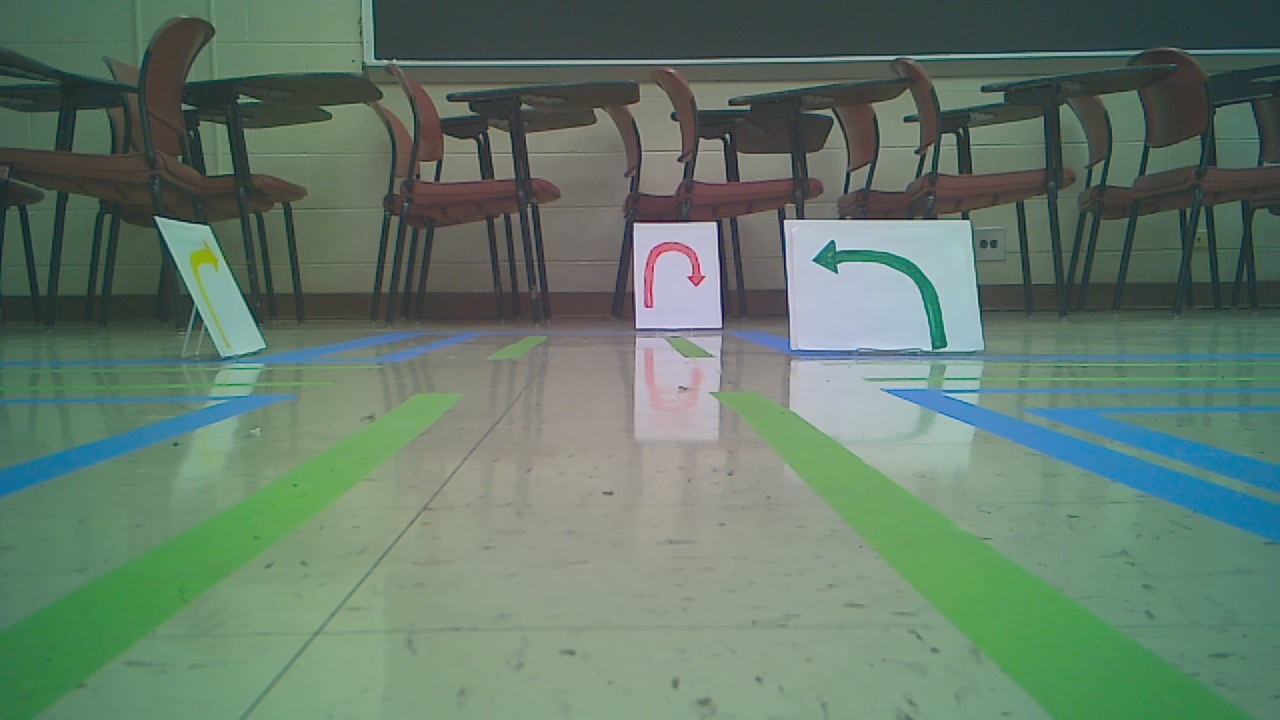greenline: (714, 390, 1242, 717), (0, 392, 459, 720)
left: (805, 237, 950, 349)
uturn: (642, 243, 711, 310)
